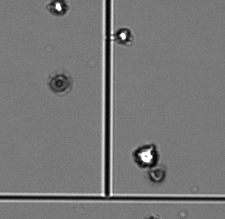Dead Cell: (48, 73, 71, 93), (149, 165, 166, 184)
Living Cell: (133, 143, 159, 168), (114, 26, 132, 45), (48, 1, 69, 15)
